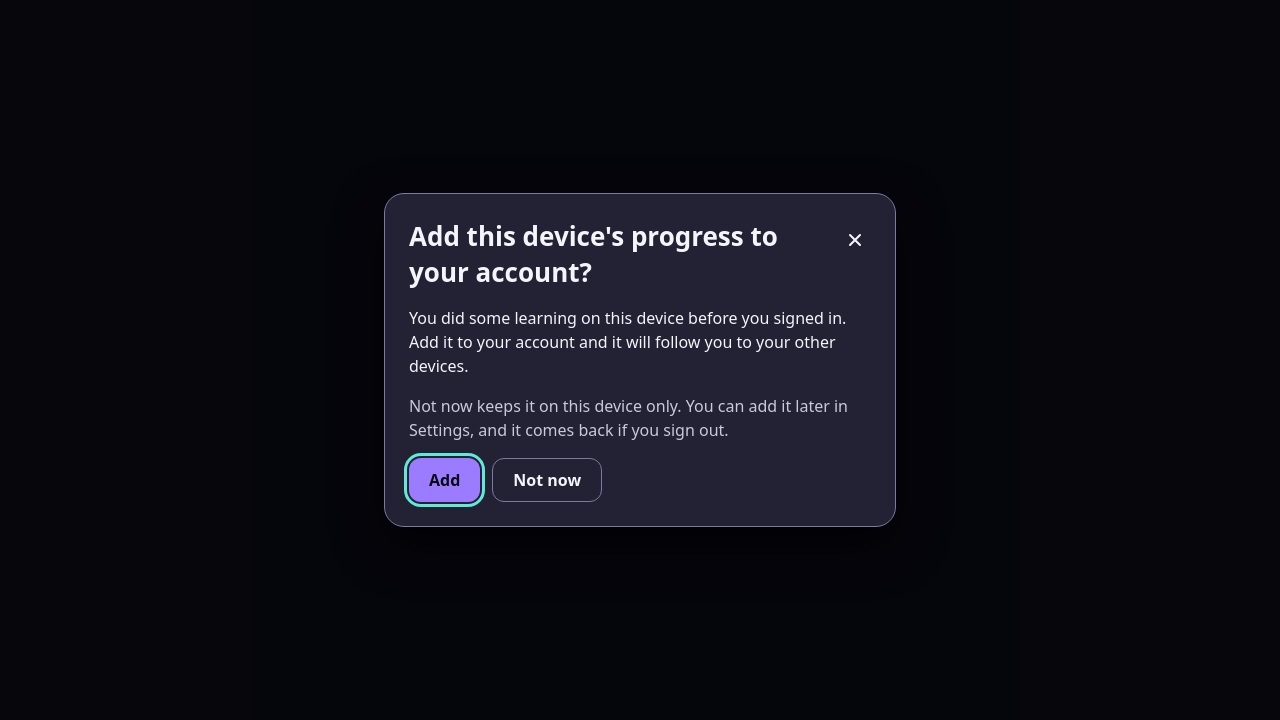
Test: MergePrompt › a failed Add says so, keeps the question open and lets the person try again
This screenshot has width=1280, height=720.
Later steps or results of the test are not shown.
Expected: the dialog is shown, [384, 193, 896, 527]
Click the button "Add" at (445,480), box [409, 458, 480, 502]
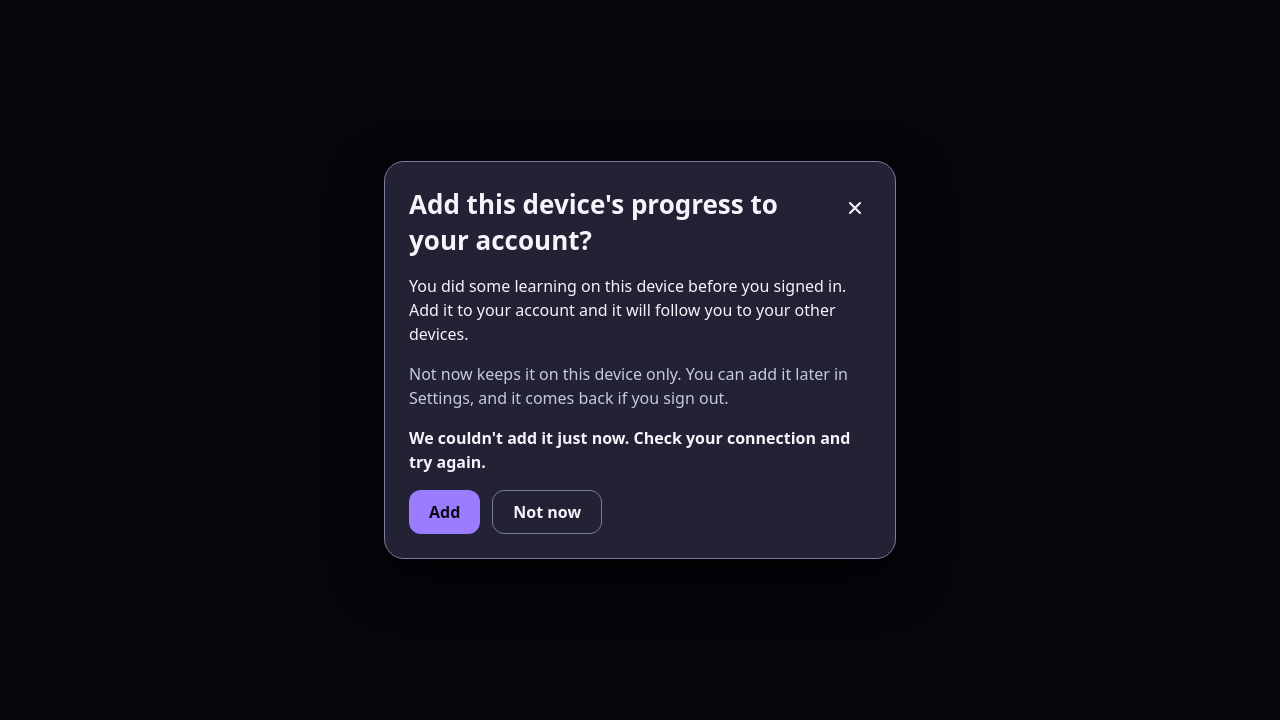
Expected: the dialog is shown, [384, 161, 896, 559]
Expected: the message shows "We couldn't add it just now", [409, 427, 850, 473]
